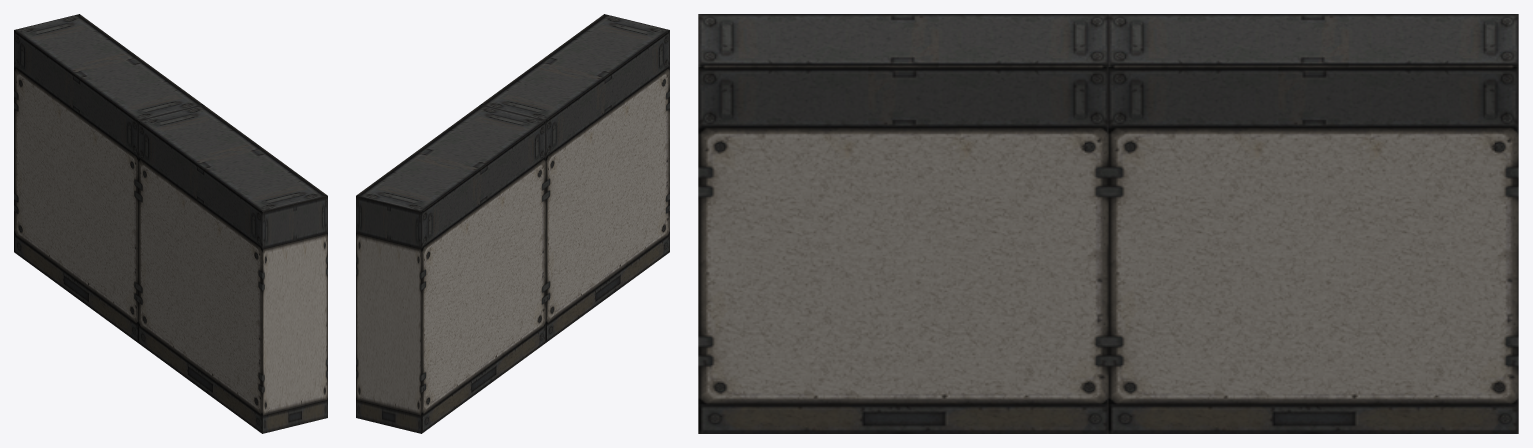
Rendered from loutifushou1.FBX.
3 views of the same model, side by side, from view 1: azimuth 30°, elevation 25°; view 2: azimuth 150°, elevation 25°; view 3: azimuth 270°, elevation 25° (orthographic). The views are drawn at different scales.
Parts seen in each view (by area): view 1: Box001; view 2: Box001; view 3: Box001.
Part boxes in pixels (x1,y1,x2,y2): Box001: [14, 14, 327, 433]; Box001: [356, 14, 669, 433]; Box001: [698, 14, 1518, 433].
Bounding box in the file's own units: 7.24 × 23.46 × 47.49.
